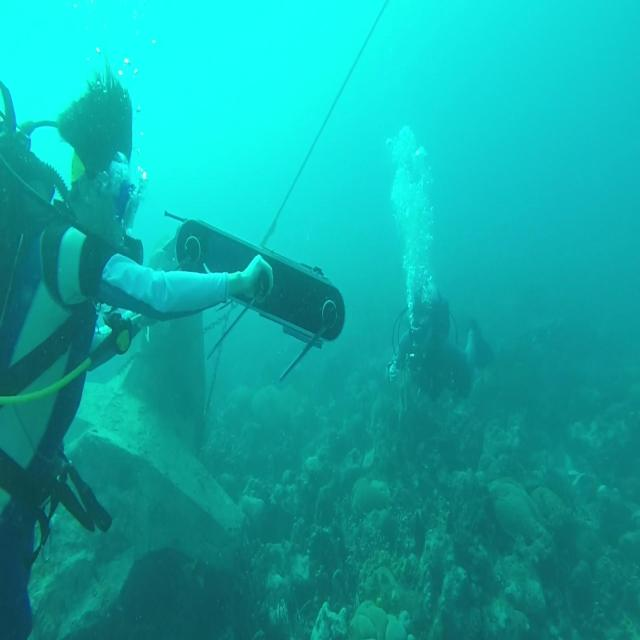human: (1, 59, 274, 638), (388, 278, 494, 413)
